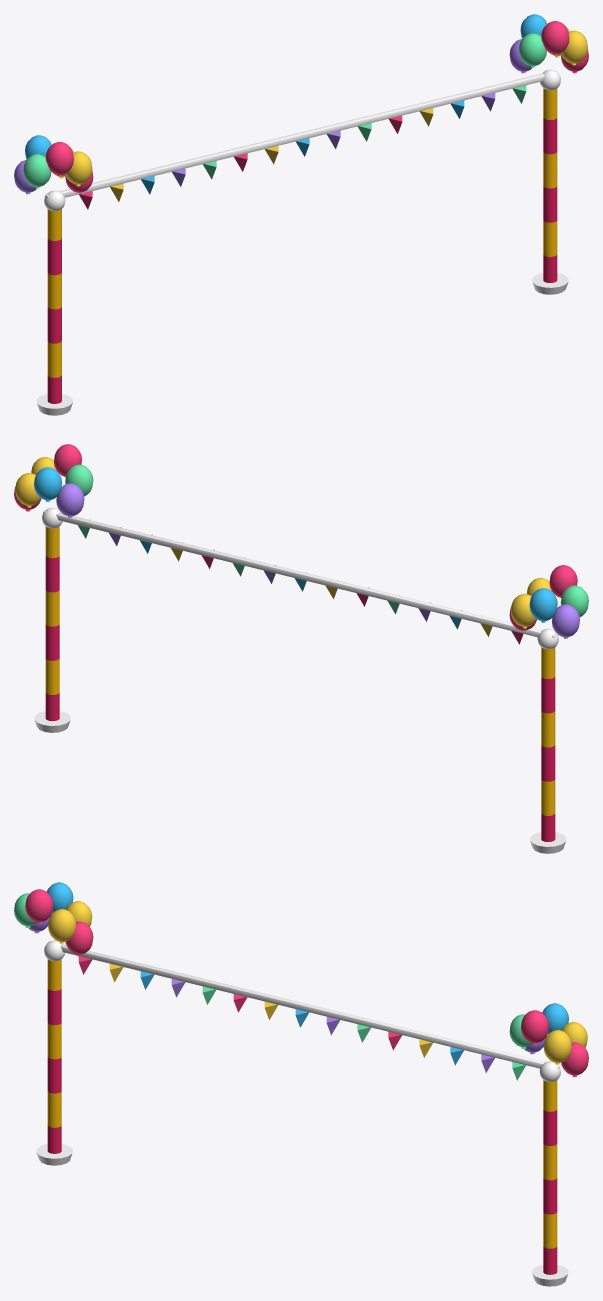
Rendered from journey_gate_bubbe.glb.
3 views of the same model, one above another, from view 1: azimuth 30°, elevation 25°; view 2: azimuth 150°, elevation 25°; view 3: azimuth 330°, elevation 25° (orthographic).
Visible parts, largest first — view 1: Gate_body; view 2: Gate_body; view 3: Gate_body.
Part boxes in pixels (x1,y1,x2,y2): Gate_body: [14, 14, 588, 415]; Gate_body: [14, 444, 588, 853]; Gate_body: [14, 882, 588, 1286].
Size of the model in its own units: 21.94 by 10.18 by 2.33.
